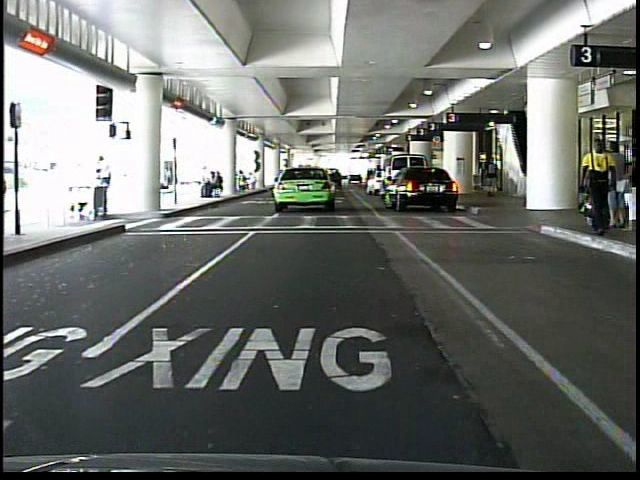person: (570, 136, 614, 241), (91, 155, 123, 224), (602, 144, 627, 232), (482, 157, 502, 204)
